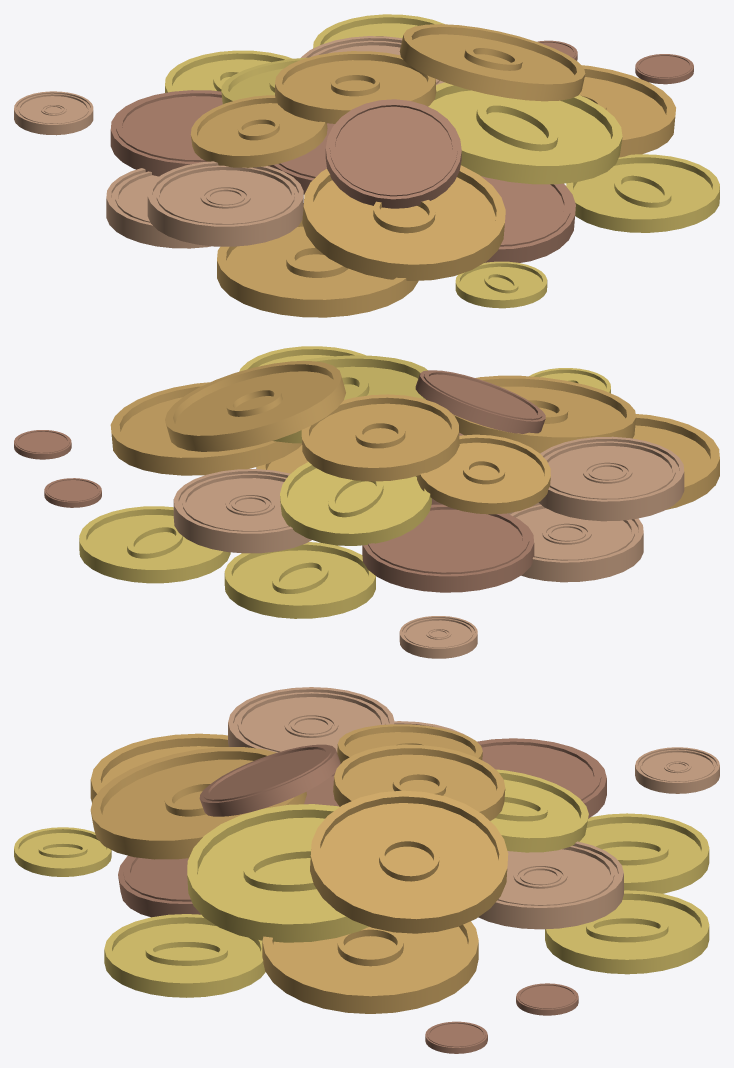
Rendered from Coin.fbx.
3 views of the same model, one above another, from view 1: azimuth 30°, elevation 25°; view 2: azimuth 150°, elevation 25°; view 3: azimuth 270°, elevation 25° (orthographic). The views are drawn at different scales.
Visible parts, largest first — view 1: Coin. Tr..001; view 2: Coin. Tr..001; view 3: Coin. Tr..001.
Part boxes in pixels (x1=…): Coin. Tr..001: x1=14, y1=14, x2=719, y2=317; Coin. Tr..001: x1=14, y1=346, x2=719, y2=658; Coin. Tr..001: x1=14, y1=687, x2=719, y2=1053.
Bounding box in the file's own units: 70.82 × 12.07 × 67.75.
